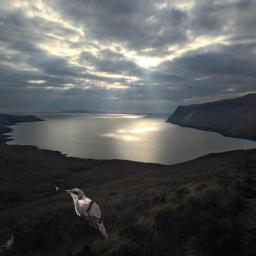Cuckoo: (64, 187, 108, 240)
